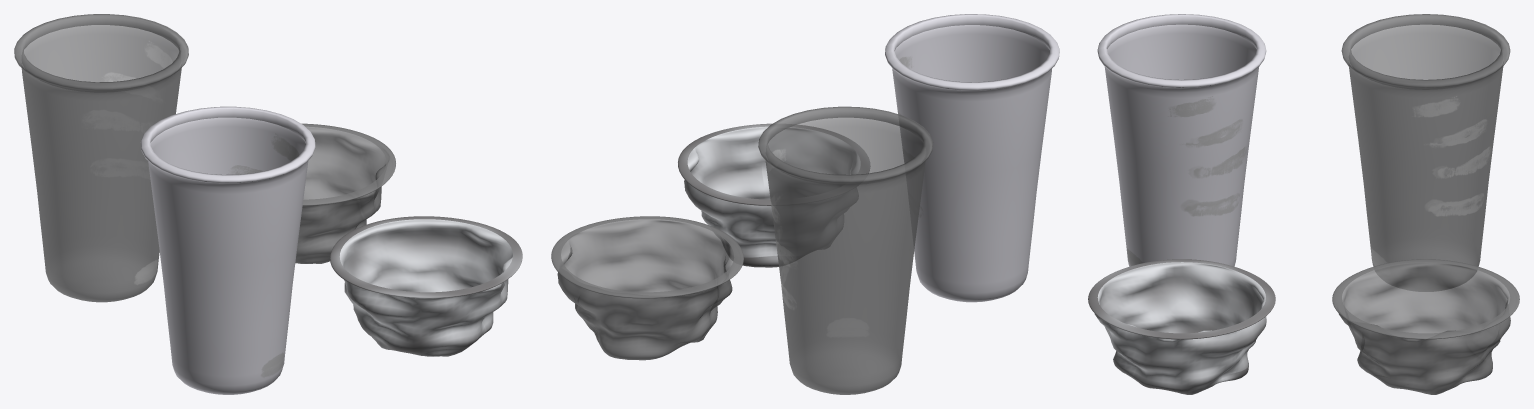
The picture shows the model from 3 angles, left to right: view 1: azimuth 30°, elevation 25°; view 2: azimuth 150°, elevation 25°; view 3: azimuth 270°, elevation 25°; orthographic projection. The views are drawn at different scales.
Visible parts, largest first — view 1: SM_plastic_cup.001_6, SM_plastic_cup_3, SM_plastic_cup_crushed.002_7, SM_plastic_cup_crushed_5; view 2: SM_plastic_cup_3, SM_plastic_cup.001_6, SM_plastic_cup_crushed_5, SM_plastic_cup_crushed.002_7; view 3: SM_plastic_cup_3, SM_plastic_cup.001_6, SM_plastic_cup_crushed_5, SM_plastic_cup_crushed.002_7.
Part boxes in pixels (box(x1,y1,x2,y2)): SM_plastic_cup.001_6: box(140, 106, 315, 394); SM_plastic_cup_3: box(14, 14, 188, 302); SM_plastic_cup_crushed.002_7: box(330, 216, 522, 356); SM_plastic_cup_crushed_5: box(295, 123, 395, 263); SM_plastic_cup_3: box(758, 106, 933, 394); SM_plastic_cup.001_6: box(885, 14, 1059, 302); SM_plastic_cup_crushed_5: box(551, 216, 743, 360); SM_plastic_cup_crushed.002_7: box(678, 123, 870, 267); SM_plastic_cup_3: box(1341, 14, 1510, 291); SM_plastic_cup.001_6: box(1097, 14, 1266, 266); SM_plastic_cup_crushed_5: box(1332, 259, 1519, 394); SM_plastic_cup_crushed.002_7: box(1088, 259, 1275, 394).
Bounding box in the file's own units: 0.8727 × 0.5718 × 0.9444.
Materials: 4 (4 with a texture image).
